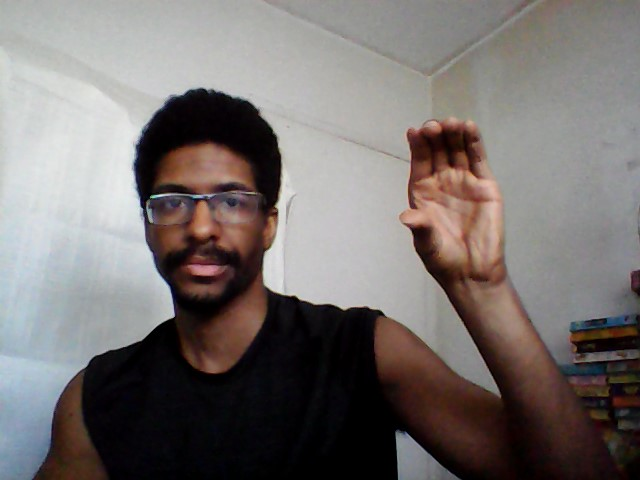c: (399, 114, 508, 281)
